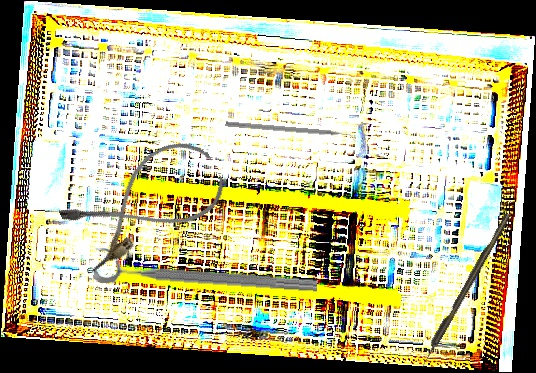Cannula: (55, 129, 234, 276)
Chopper: (224, 121, 357, 145)
Fixation Ring: (92, 245, 320, 298)
Hook Surgical: (417, 211, 513, 369)
